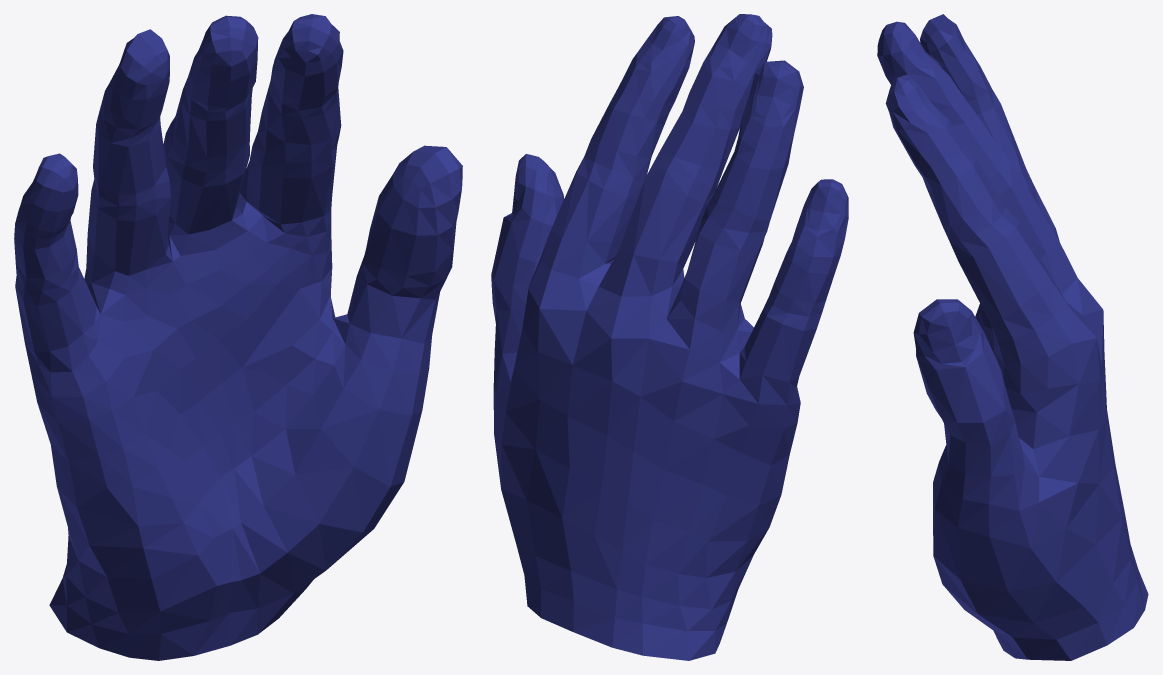
3 views of the same model, side by side, from view 1: azimuth 30°, elevation 25°; view 2: azimuth 150°, elevation 25°; view 3: azimuth 270°, elevation 25° (orthographic). The views are drawn at different scales.
Bounding box in the file's own units: 0.1147 × 0.1809 × 0.075.
